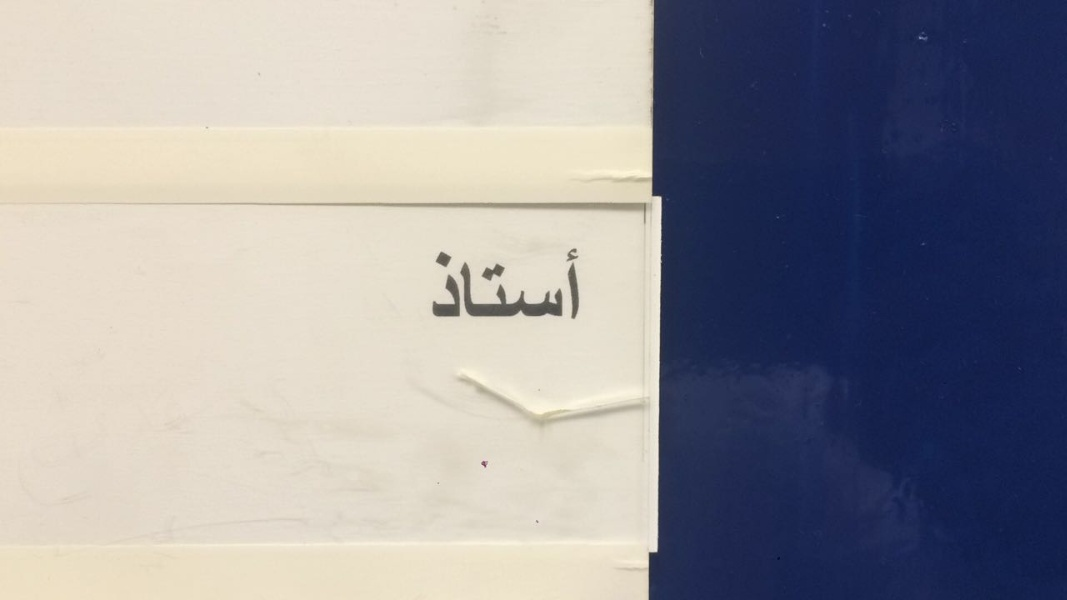text: (433, 249, 448, 321), (449, 249, 464, 321), (465, 249, 480, 321), (481, 249, 496, 321), (497, 249, 512, 321), (513, 249, 528, 321), (529, 249, 544, 321), (545, 249, 560, 321), (561, 249, 576, 321), (577, 249, 581, 321), (431, 249, 432, 321)
